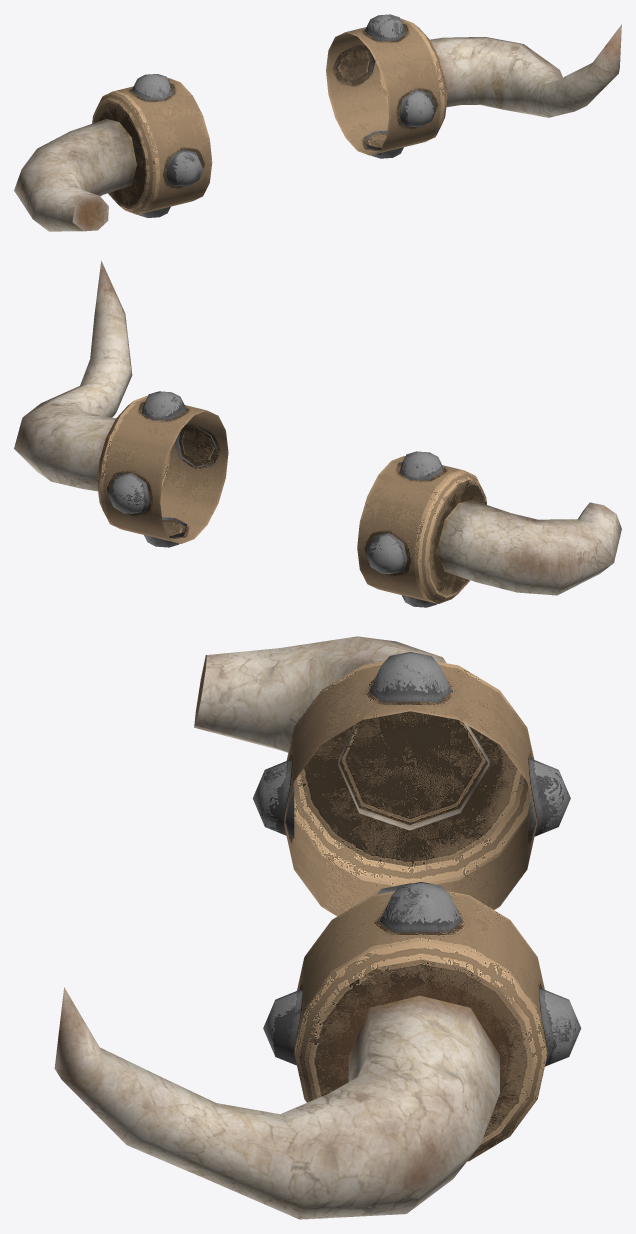
Rendered from HEAD_BULL_HORNS.fbx.
The picture shows the model from 3 angles, top to bottom: view 1: azimuth 30°, elevation 25°; view 2: azimuth 150°, elevation 25°; view 3: azimuth 270°, elevation 25°; orthographic projection. The views are drawn at different scales.
Visible parts, largest first — view 1: HEAD_BULL_HORNS; view 2: HEAD_BULL_HORNS; view 3: HEAD_BULL_HORNS.
Boxes of the visible parts, x1=… form: HEAD_BULL_HORNS: x1=14, y1=14, x2=621, y2=231; HEAD_BULL_HORNS: x1=14, y1=261, x2=621, y2=607; HEAD_BULL_HORNS: x1=54, y1=636, x2=581, y2=1219.
Size of the model in its own units: 0.0445 by 0.013 by 0.019.
